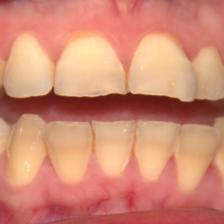cavity: (121, 70, 134, 90), (90, 131, 100, 150), (131, 132, 138, 154), (51, 66, 59, 84)
